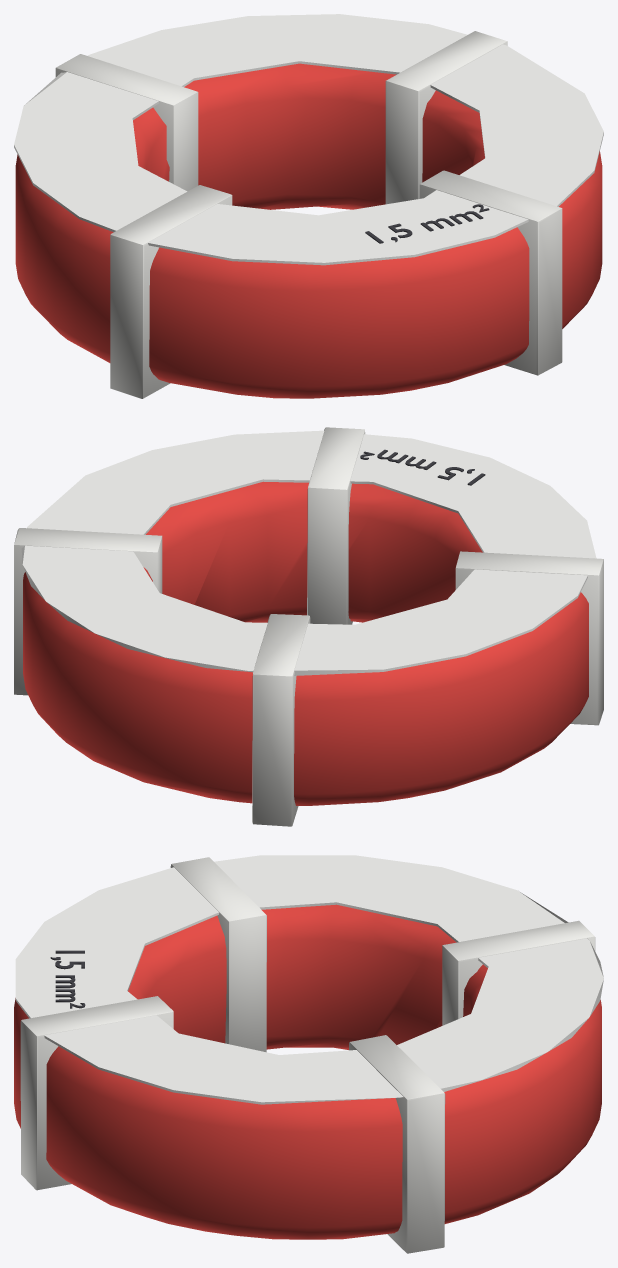
The model's file is ELE-FIO-001_lod1.glb.
3 renders of one model, top to bottom at view 1: azimuth 30°, elevation 25°; view 2: azimuth 150°, elevation 25°; view 3: azimuth 270°, elevation 25°, orthographic. The views are drawn at different scales.
Parts seen in each view (by area): view 1: ELE-FIO-001_rolo, ELE-FIO-001_etiqueta, ELE-FIO-001_fita2, ELE-FIO-001_fita3, ELE-FIO-001_fita0, ELE-FIO-001_fita1, ELE-FIO-001_texto; view 2: ELE-FIO-001_rolo, ELE-FIO-001_etiqueta, ELE-FIO-001_fita1, ELE-FIO-001_fita3, ELE-FIO-001_fita2, ELE-FIO-001_fita0, ELE-FIO-001_texto; view 3: ELE-FIO-001_rolo, ELE-FIO-001_etiqueta, ELE-FIO-001_fita0, ELE-FIO-001_fita2, ELE-FIO-001_fita3, ELE-FIO-001_fita1, ELE-FIO-001_texto.
Part boxes in pixels (x1,y1,x2,y2): ELE-FIO-001_rolo: (15,63,602,398); ELE-FIO-001_etiqueta: (14,14,603,265); ELE-FIO-001_fita2: (110,185,232,398); ELE-FIO-001_fita3: (419,170,562,375); ELE-FIO-001_fita0: (385,31,507,204); ELE-FIO-001_fita1: (55,54,198,191); ELE-FIO-001_texto: (365,204,489,243); ELE-FIO-001_rolo: (23,481,588,805); ELE-FIO-001_etiqueta: (21,430,596,675); ELE-FIO-001_fita1: (252,614,310,826); ELE-FIO-001_fita3: (307,427,365,624); ELE-FIO-001_fita2: (455,551,603,725); ELE-FIO-001_fita0: (14,528,162,695); ELE-FIO-001_texto: (360,449,485,485); ELE-FIO-001_rolo: (14,904,601,1239); ELE-FIO-001_etiqueta: (15,855,603,1104); ELE-FIO-001_fita0: (349,1035,445,1253); ELE-FIO-001_fita2: (170,857,266,1052); ELE-FIO-001_fita3: (20,996,173,1190); ELE-FIO-001_fita1: (442,920,595,1025); ELE-FIO-001_texto: (50,950,85,1008).
Size of the model in its own units: 0.2185 by 0.0637 by 0.2193.
